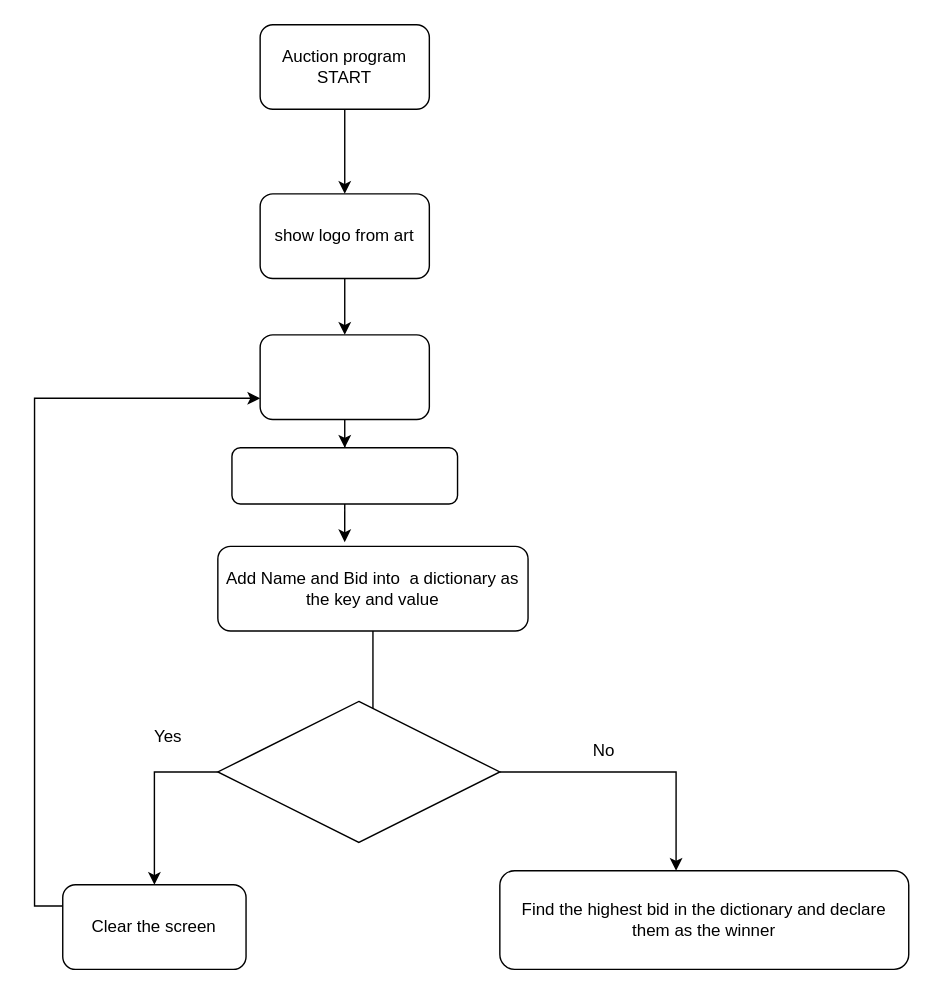
Some shapes in this 933 by 994 pixel diagram are drawn without their labels. The box of each missing label's shape, as (x1, y1, x2, y2) in pixels:
Ask for Bid price: (231, 446, 458, 504)
Ask for name input: (259, 333, 429, 419)
Ask if there are other users who want to bid?: (216, 700, 500, 842)
